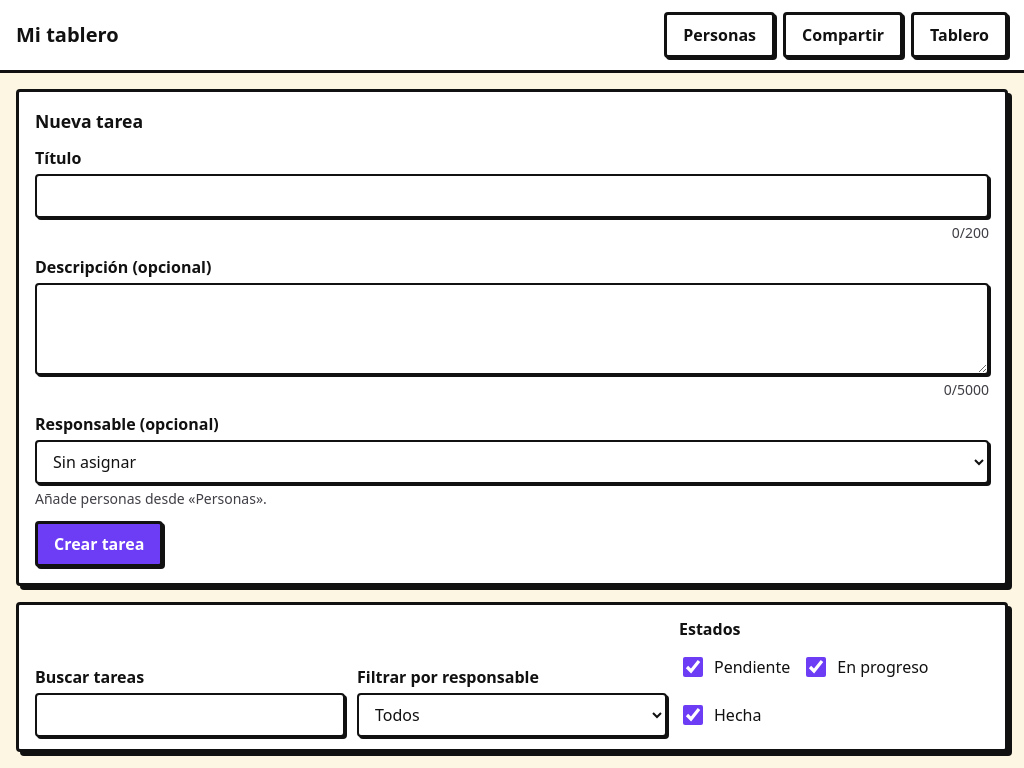
Test: gestionar el tablero desde la cabecera › cambiar el nombre (US3, FR-114) › si falla, el nombre no cambia, se conserva lo escrito y se puede reintentar
Expected: the heading "Mi tablero" is shown, [16, 20, 119, 50]
Click the button "Tablero" at (960, 35), box [911, 12, 1008, 58]
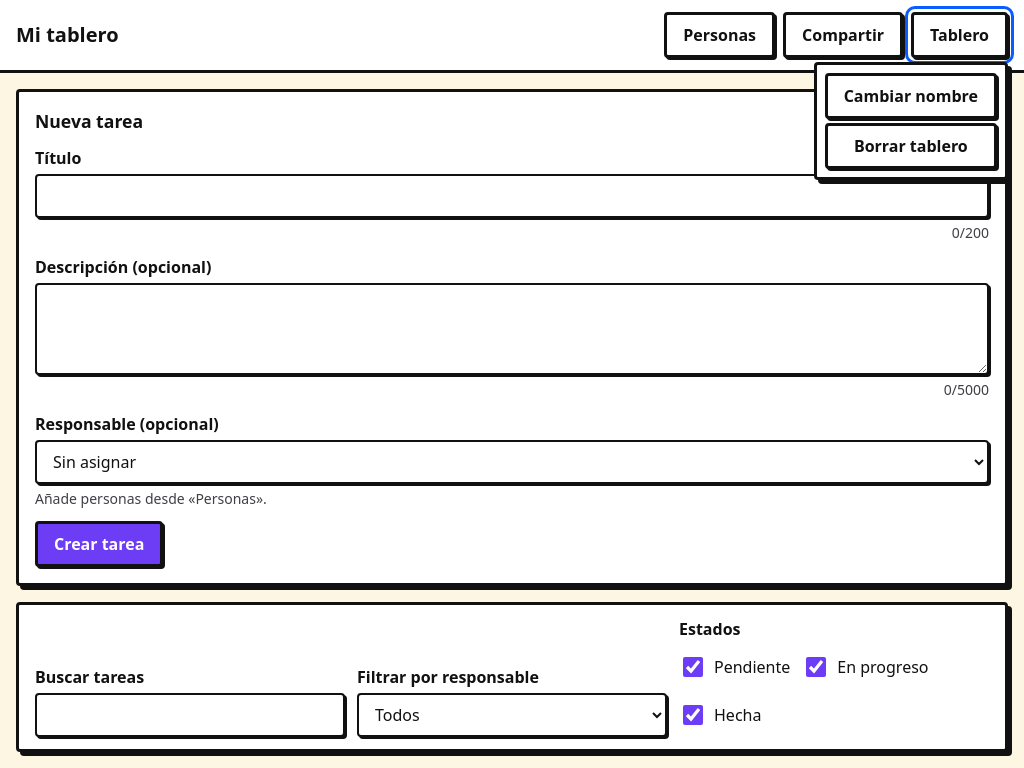
Click the button "Cambiar nombre" at (911, 96), box [825, 73, 997, 119]
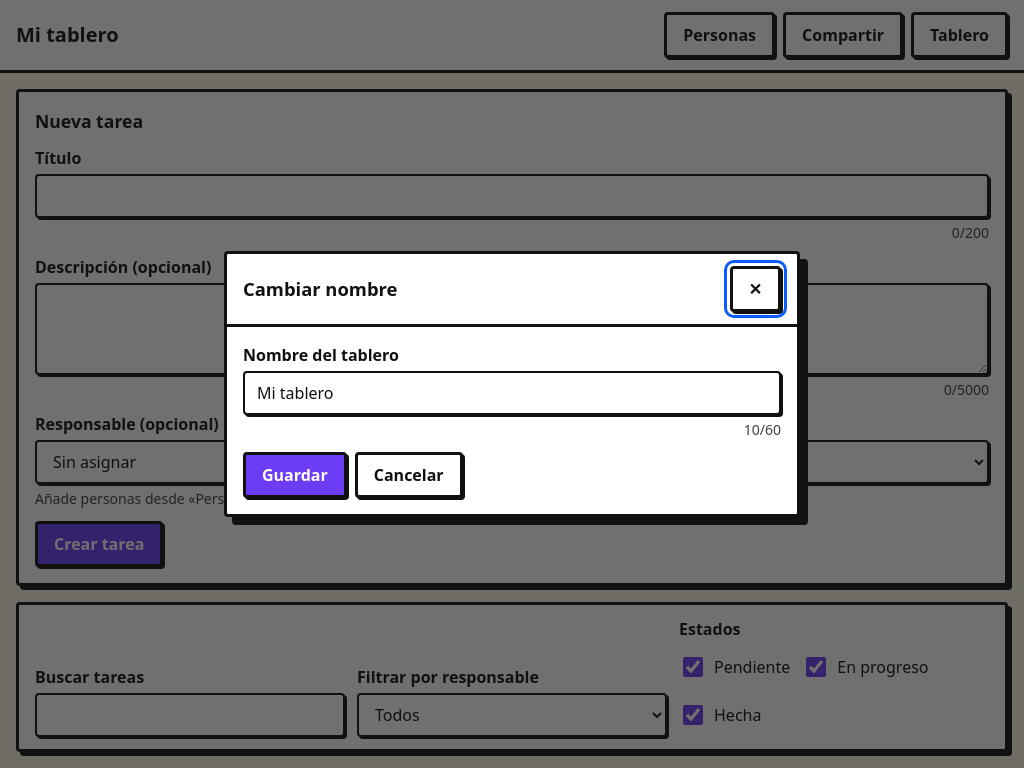
Replace the text in the field labelled "Nombre del tablero" with "Diseño y UX" at (512, 393), box [243, 371, 781, 415]
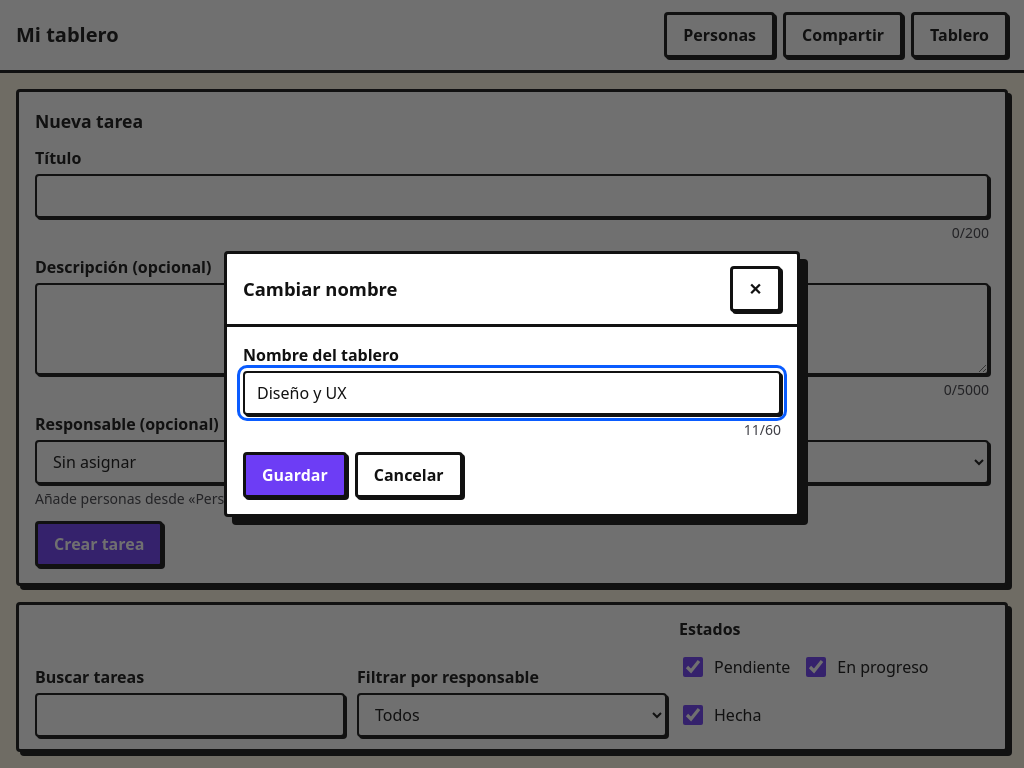
Click the button "Guardar" at (295, 475), box [243, 452, 347, 498]
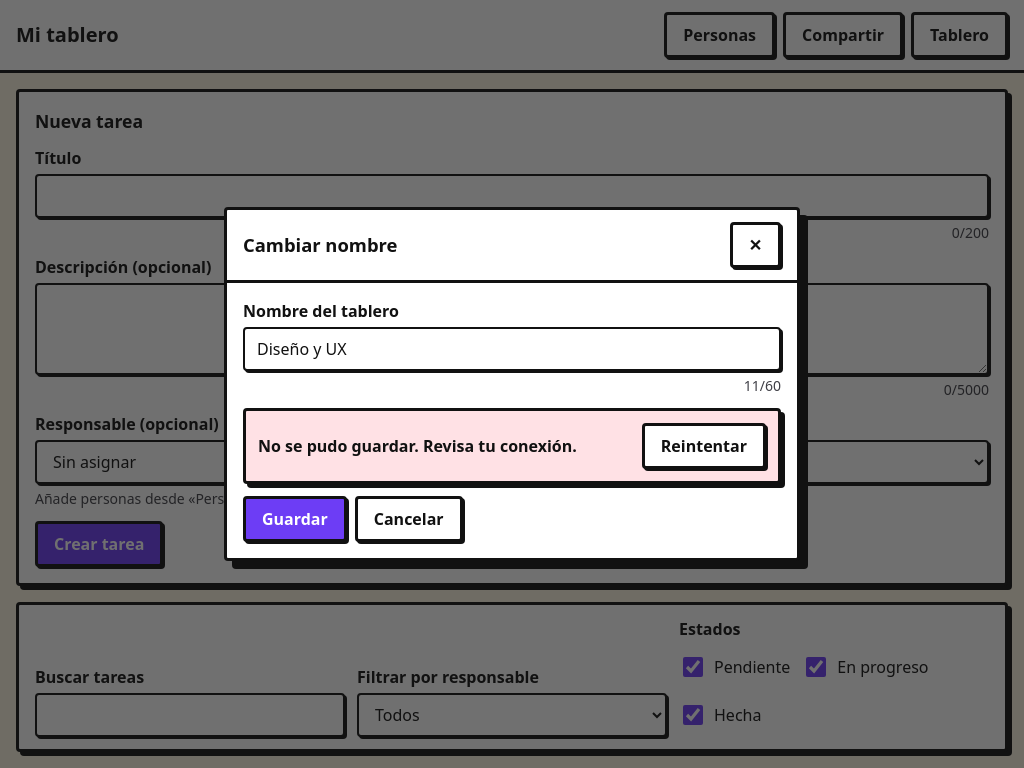
Expected: the heading "Mi tablero" is shown, [16, 20, 119, 50]
Now the message shows "No se pudo guardar. Revisa tu conexión.", box [258, 435, 577, 457]
Click the button "Reintentar" at (704, 446), box [642, 423, 766, 469]
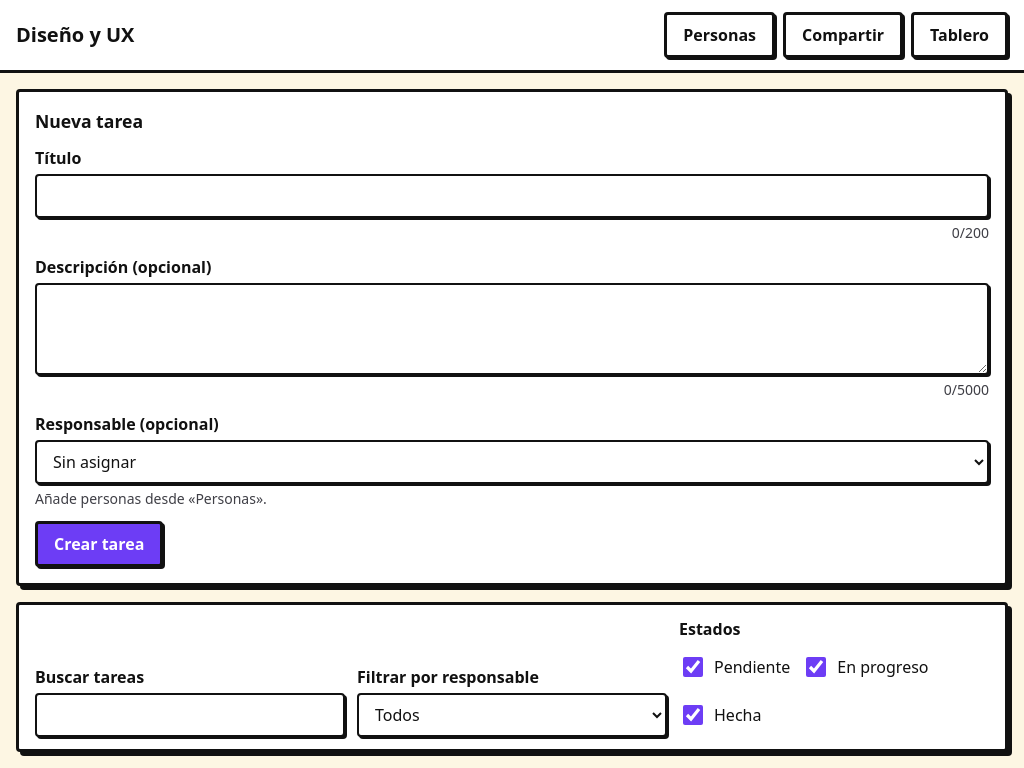
Now the heading "Diseño y UX" is shown, box [16, 20, 134, 50]
